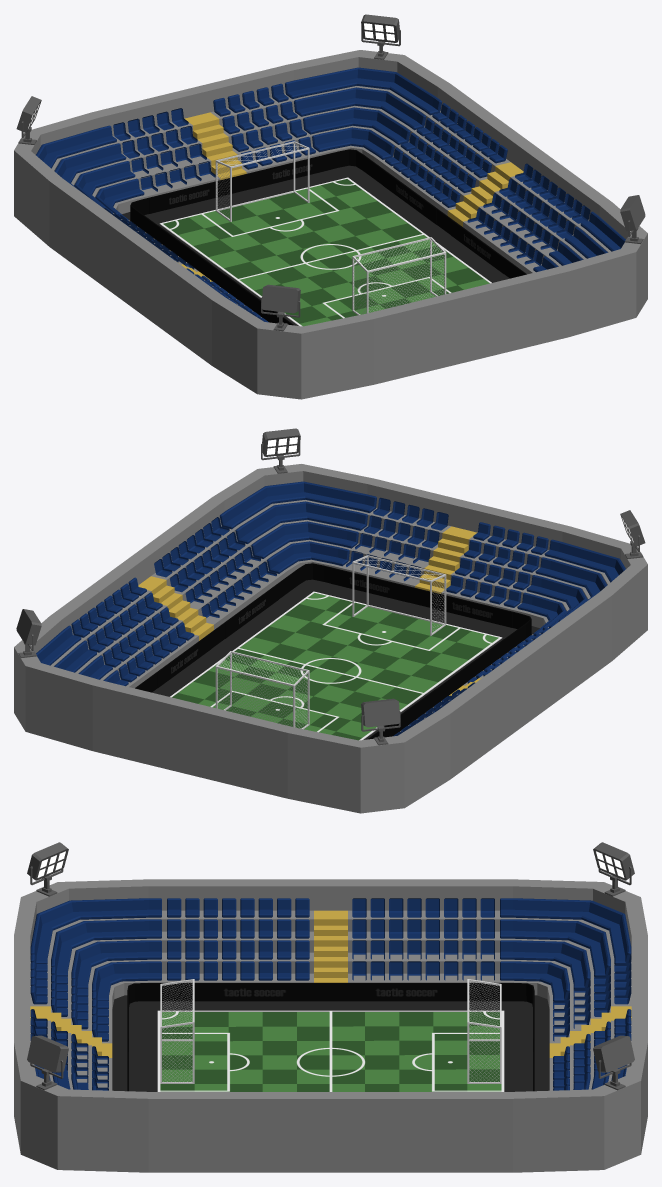
File: stadium.glb
3 views of the same model, one above another, from view 1: azimuth 30°, elevation 25°; view 2: azimuth 150°, elevation 25°; view 3: azimuth 270°, elevation 25° (orthographic). The views are drawn at different scales.
Visible parts, largest first — view 1: arena, seats, field, fence, banner, reflectors, field_lines, goal2_net, goal1_frame, goal2_frame; view 2: arena, seats, field, fence, banner, reflectors, field_lines, goal1_net, goal2_frame, goal1_frame; view 3: arena, seats, field, reflectors, banner, fence, field_lines, goal1_net, goal2_net, goal1_frame, goal2_frame.
Boxes of the visible parts, x1,y1,x2,y2 form: arena: (14, 50, 647, 399); seats: (36, 67, 625, 322); field: (163, 179, 489, 326); fence: (130, 149, 526, 325); banner: (149, 154, 504, 311); reflectors: (16, 14, 645, 331); field_lines: (159, 177, 491, 326); goal2_net: (353, 239, 444, 314); goal1_frame: (215, 141, 309, 221); goal2_frame: (352, 237, 446, 315); arena: (14, 464, 647, 813); seats: (36, 481, 625, 736); field: (172, 593, 498, 740); fence: (135, 563, 531, 739); banner: (157, 568, 512, 714); reflectors: (16, 428, 645, 745); field_lines: (170, 591, 502, 740); goal1_net: (217, 653, 309, 728); goal2_frame: (352, 555, 446, 635); goal1_frame: (215, 651, 309, 729); arena: (14, 879, 647, 1172); seats: (30, 898, 631, 1090); field: (160, 1012, 501, 1091); reflectors: (27, 842, 634, 1090); banner: (128, 983, 533, 1090); fence: (127, 983, 534, 1091); field_lines: (157, 1010, 504, 1091); goal1_net: (468, 981, 499, 1083); goal2_net: (162, 981, 193, 1083); goal1_frame: (467, 979, 501, 1083); goal2_frame: (160, 979, 194, 1083).
Size of the model in its own units: 15.22 by 3.88 by 18.58.
11 materials, 2 textured.
